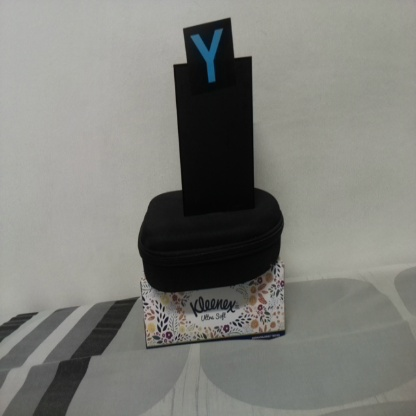id_14: (184, 27, 234, 91)
